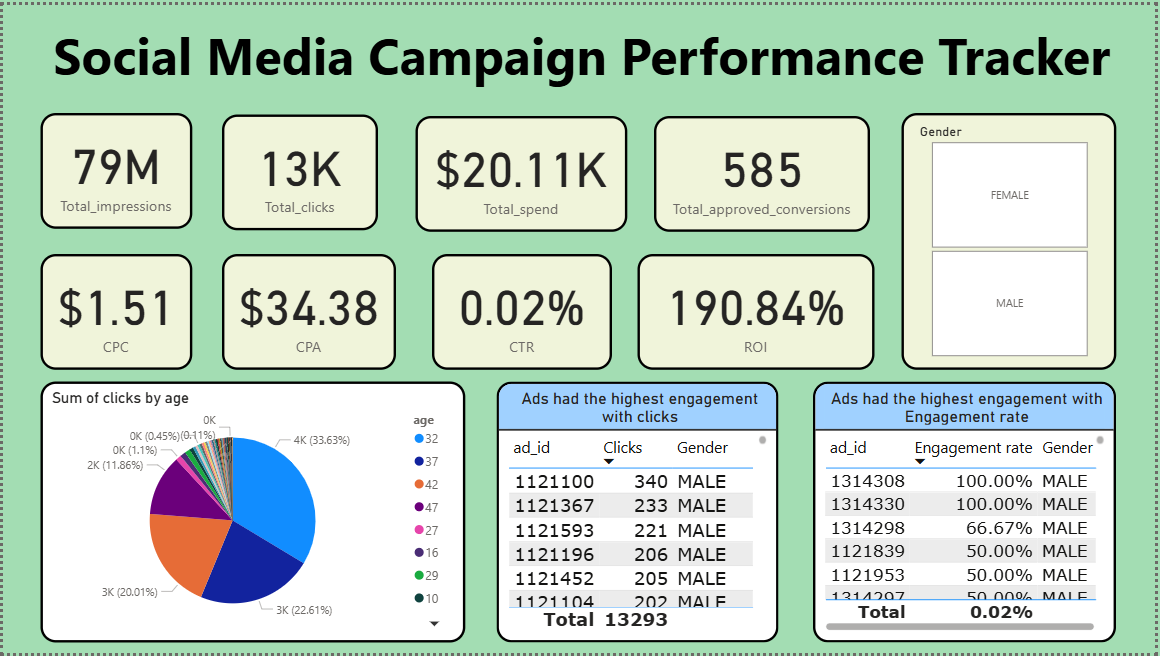

Layout of this report page (visuals, bound fields, positions):
{"tool":"powerbi","page":{"name":"Page 1","canvas":[1280,720],"ordinal":0},"visuals":[{"type":"card","fields":{"Values":["data.Total_impressions"]},"box":[41.7,120,168.3,128.3],"z":0},{"type":"card","fields":{"Values":["data.Total_clicks"]},"box":[243.3,121.7,173.3,128.3],"z":1000},{"type":"card","fields":{"Values":["data.Total_spend"]},"box":[458.3,123.3,235,128.3],"z":2000},{"type":"card","fields":{"Values":["data.Total_approved_conversions"]},"box":[723.3,123.3,240,128.3],"z":4000},{"type":"card","fields":{"Values":["data.CPC"]},"box":[41.7,276.7,168.3,128.3],"z":4001},{"type":"card","fields":{"Values":["data.CPA"]},"box":[243.3,276.7,193.3,128.3],"z":4002},{"type":"card","fields":{"Values":["data.CTR"]},"box":[476.7,276.7,200,128.3],"z":4003},{"type":"card","fields":{"Values":["data.ROI"]},"box":[705,276.7,263.3,128.3],"z":4004},{"type":"tableEx","title":"Ads had the highest engagement with clicks","fields":{"Values":["data.ad_id","Sum(data.clicks)","data.Gender_Clean"]},"box":[548.3,418.3,313.3,290],"z":4005},{"type":"tableEx","title":"Ads had the highest engagement with Engagement rate","fields":{"Values":["data.ad_id","data.CTR","data.Gender_Clean"]},"box":[900,418.3,336.7,290],"z":4006},{"type":"pieChart","fields":{"Category":["data.age"],"Y":["Sum(data.clicks)"]},"box":[41.7,418.3,471.7,290],"z":4007},{"type":"slicer","fields":{"Values":["data.Gender_Clean"]},"box":[998.3,120,238.3,285],"z":4008},{"type":"textbox","box":[20,11.7,1238.3,135],"z":4009}]}

Visuals, with their boxes in screenshot pixels (x1, y1, x2, y2), scaled from the page's 1280x720 canvas onto the 1160x656 screenshot:
card - data.Total_impressions: [left=38, top=109, right=190, bottom=226]
card - data.Total_clicks: [left=220, top=111, right=378, bottom=228]
card - data.Total_spend: [left=415, top=112, right=628, bottom=229]
card - data.Total_approved_conversions: [left=655, top=112, right=873, bottom=229]
card - data.CPC: [left=38, top=252, right=190, bottom=369]
card - data.CPA: [left=220, top=252, right=396, bottom=369]
card - data.CTR: [left=432, top=252, right=613, bottom=369]
card - data.ROI: [left=639, top=252, right=878, bottom=369]
"Ads had the highest engagement with clicks" tableEx: [left=497, top=381, right=781, bottom=645]
"Ads had the highest engagement with Engagement rate" tableEx: [left=816, top=381, right=1121, bottom=645]
pieChart - data.age x Sum(data.clicks): [left=38, top=381, right=465, bottom=645]
slicer - data.Gender_Clean: [left=905, top=109, right=1121, bottom=369]
textbox: [left=18, top=11, right=1140, bottom=134]
